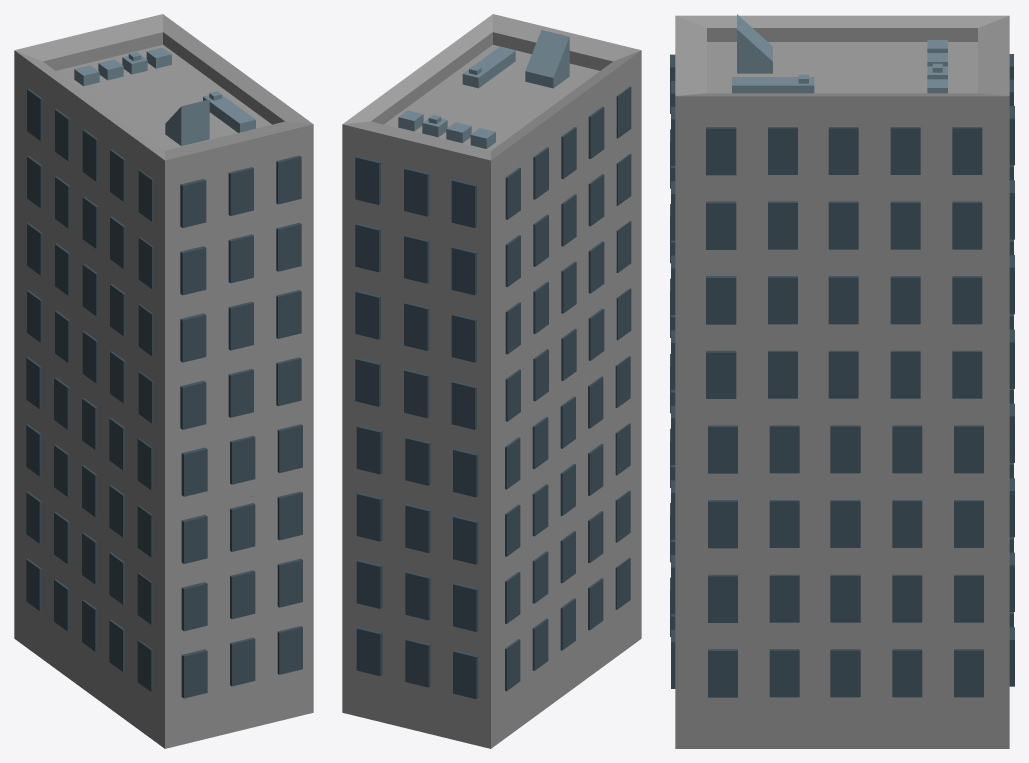
File: node.001_lev3.glb
3 views of the same model, side by side, from view 1: azimuth 30°, elevation 25°; view 2: azimuth 150°, elevation 25°; view 3: azimuth 270°, elevation 25° (orthographic). The views are drawn at different scales.
Parts seen in each view (by area): view 1: node.001_lev3; view 2: node.001_lev3; view 3: node.001_lev3.
Boxes of the visible parts, bbox=[...] form: node.001_lev3: bbox=[14, 14, 313, 748]; node.001_lev3: bbox=[342, 14, 641, 748]; node.001_lev3: bbox=[670, 14, 1014, 748].
Bounding box in the file's own units: 3.81 × 14.46 × 6.66.
